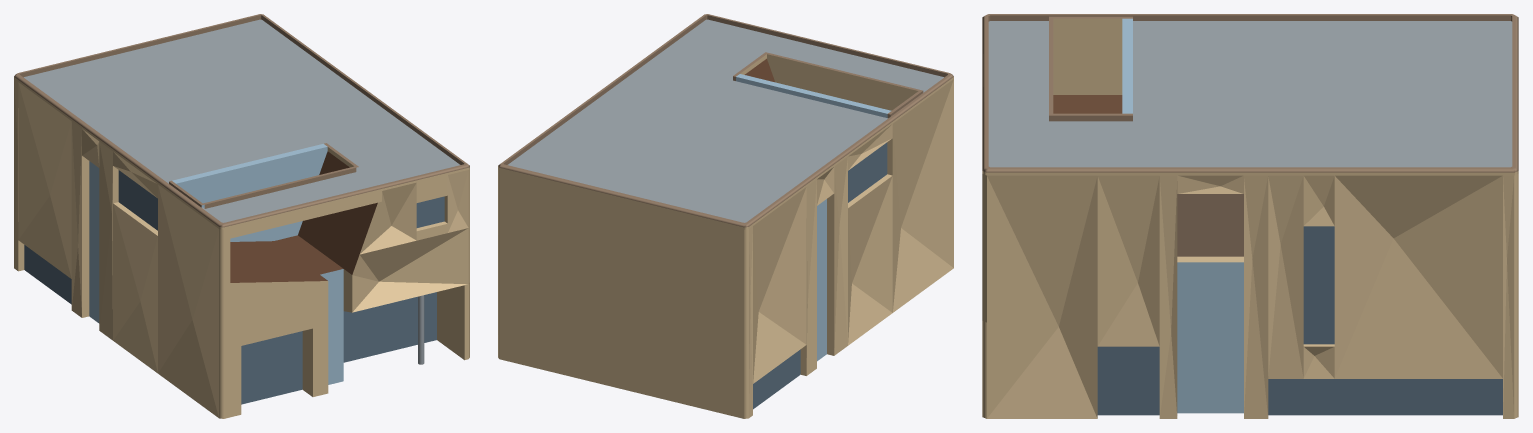
The model's file is mint-museum-uptown.glb.
3 views of the same model, side by side, from view 1: azimuth 30°, elevation 25°; view 2: azimuth 150°, elevation 25°; view 3: azimuth 270°, elevation 25° (orthographic). The views are drawn at different scales.
Visible parts, largest first — view 1: Mint Museum Uptown; view 2: Mint Museum Uptown; view 3: Mint Museum Uptown.
Part boxes in pixels (<box>): Mint Museum Uptown: <box>14,14,469,418</box>; Mint Museum Uptown: <box>498,14,953,418</box>; Mint Museum Uptown: <box>982,14,1518,418</box>.
Bounding box in the file's own units: 42 × 31 × 60.5.
